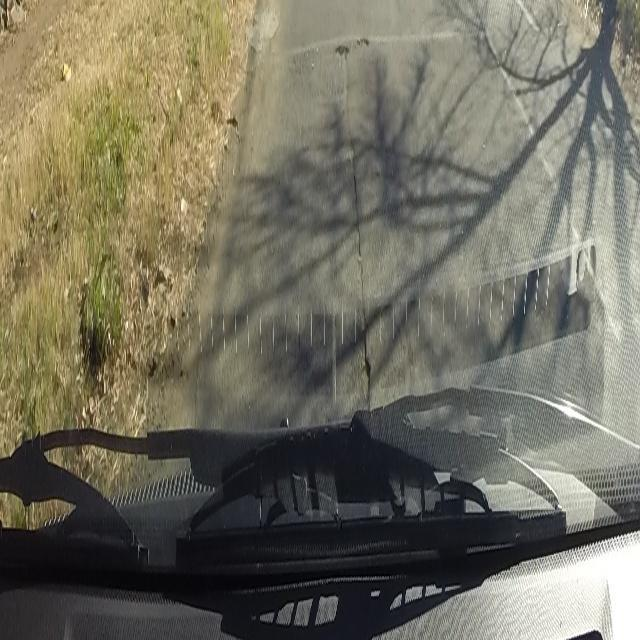pothole: (335, 34, 370, 56)
